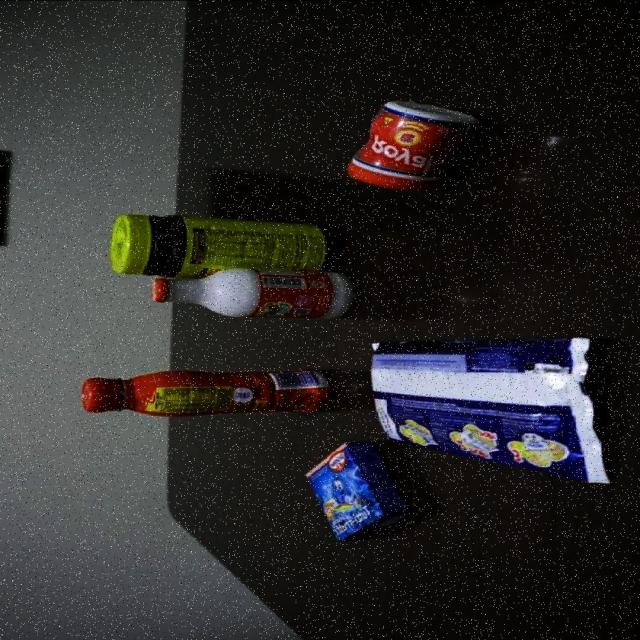ChocolateMilk: (80, 368, 337, 417)
ChocolatePowder: (110, 212, 347, 280)
CoconutMilk: (149, 266, 366, 322)
Gelatine: (305, 439, 416, 544)
Popcorn: (367, 331, 619, 490)
Yeast: (345, 99, 480, 194)
